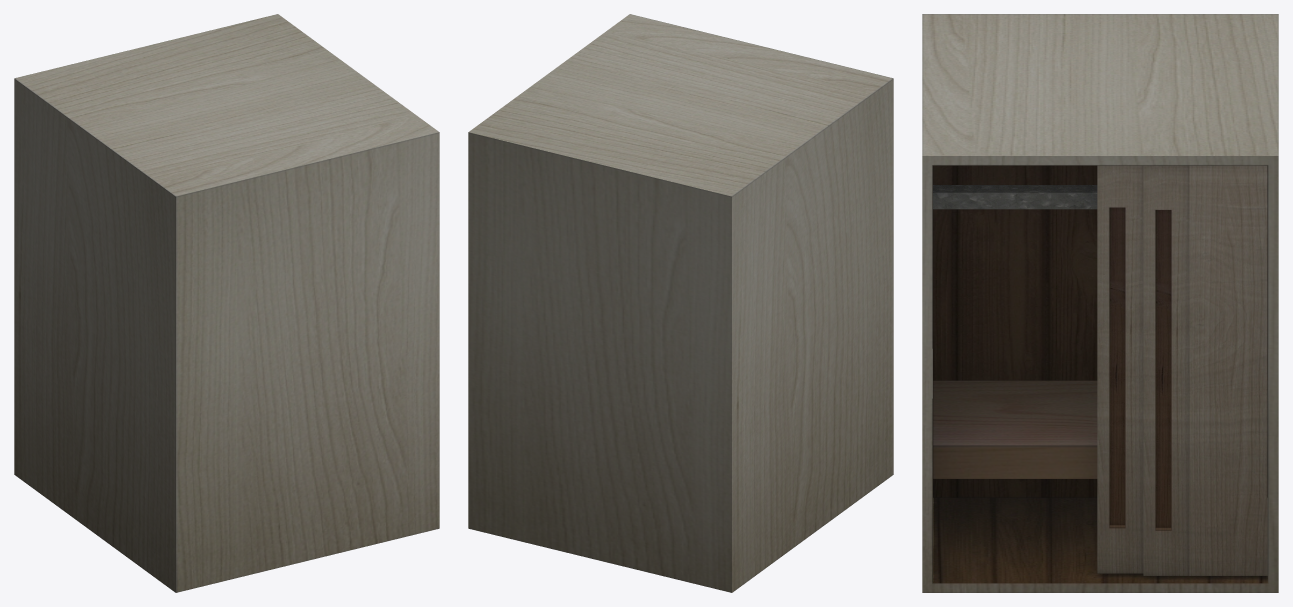
Rendered from closet.gltf.
3 views of the same model, side by side, from view 1: azimuth 30°, elevation 25°; view 2: azimuth 150°, elevation 25°; view 3: azimuth 270°, elevation 25° (orthographic). The views are drawn at different scales.
Parts seen in each view (by area): view 1: pCube5; view 2: pCube5; view 3: pCube5.
Boxes of the visible parts, bbox=[...] form: pCube5: bbox=[14, 14, 439, 592]; pCube5: bbox=[468, 14, 893, 592]; pCube5: bbox=[922, 14, 1278, 592].
Bounding box in the file's own units: 978 × 1403 × 1037.
1 material, 1 textured.
